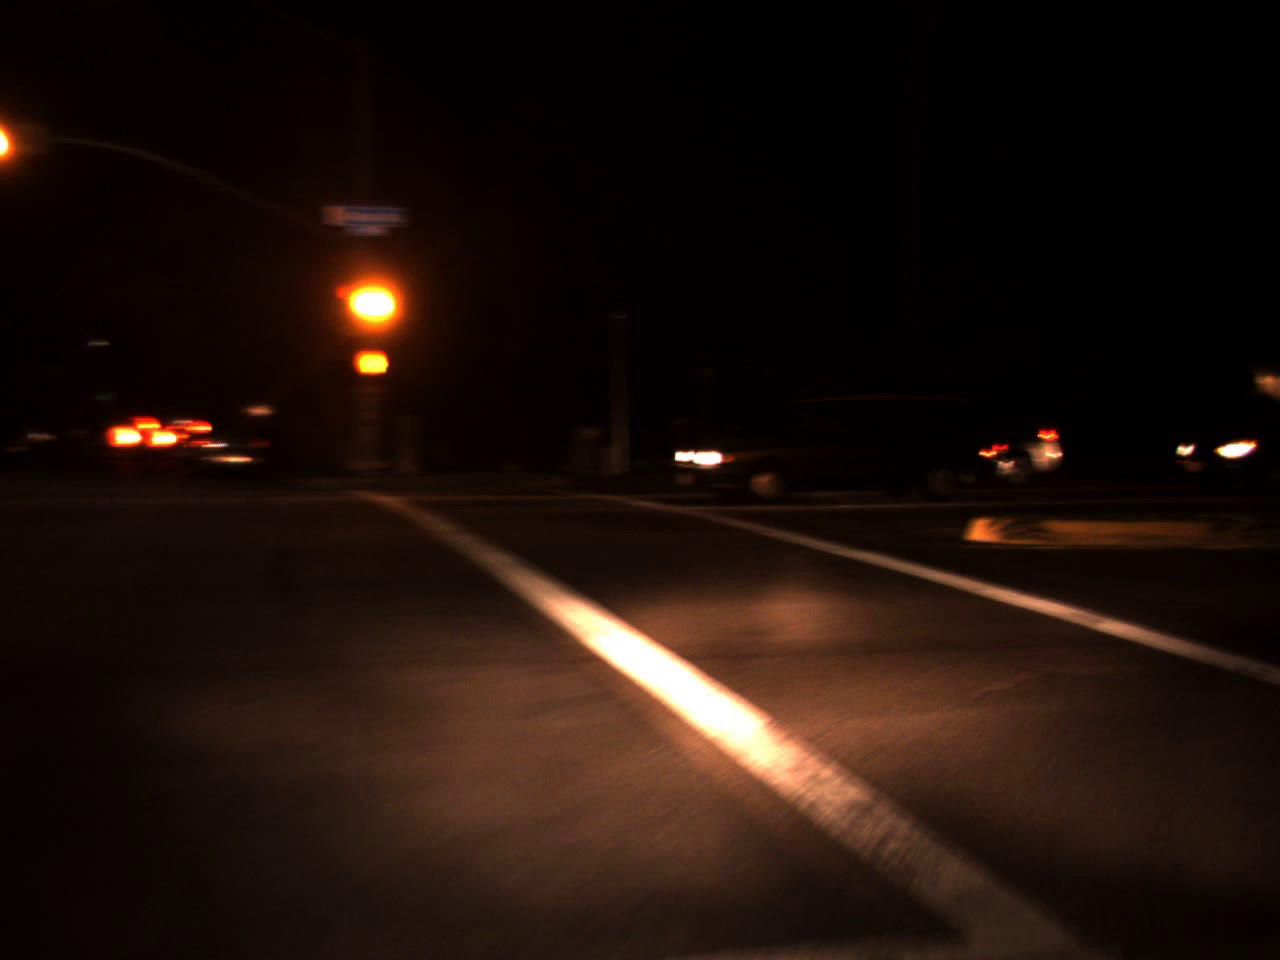warning: (354, 274, 397, 331)
